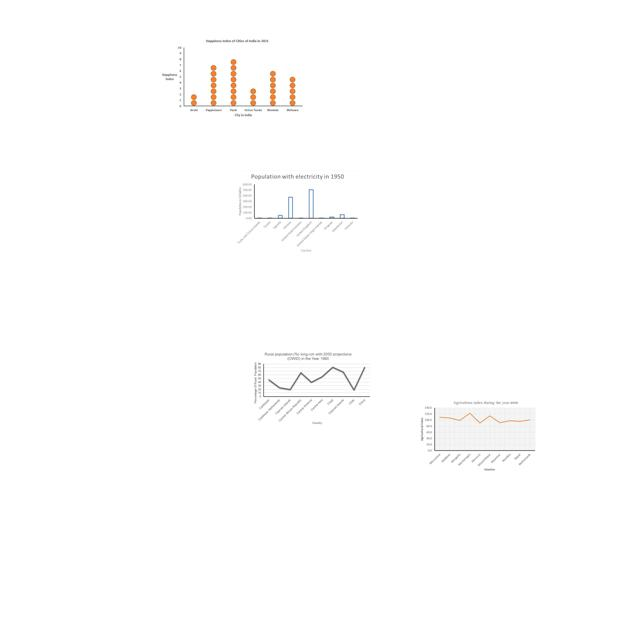Graph: (158, 37, 304, 121), (234, 170, 361, 256), (251, 350, 372, 427), (418, 399, 538, 471)
